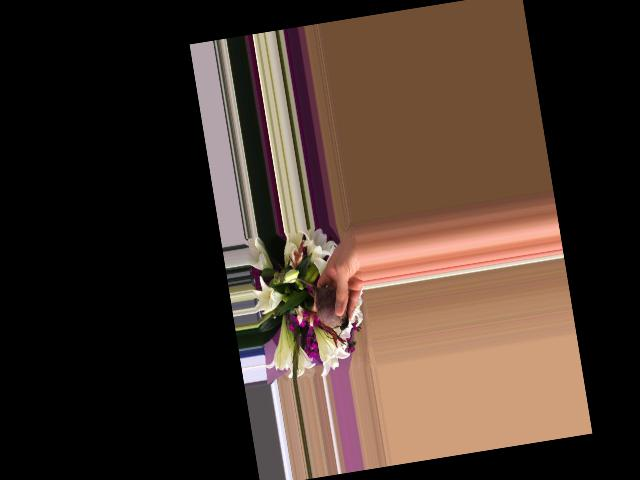beet: (289, 271, 352, 345)
